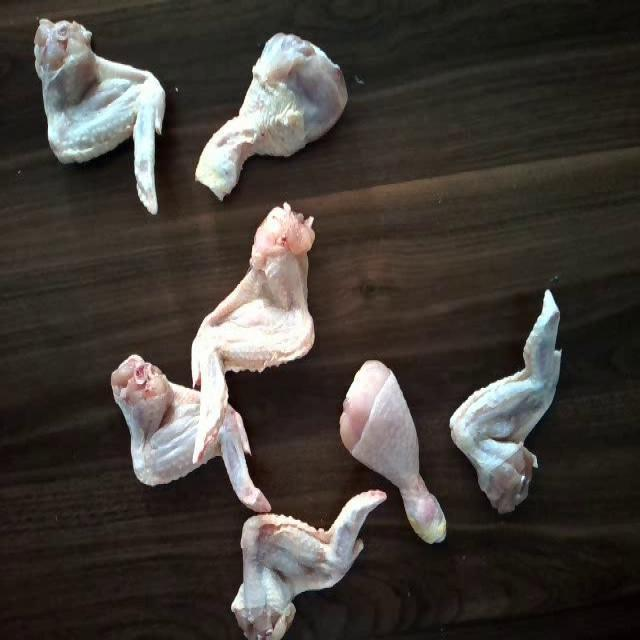leg: (196, 27, 344, 209), (337, 354, 451, 548)
wing: (20, 15, 170, 214), (452, 283, 571, 522), (97, 354, 275, 510), (203, 210, 321, 435), (226, 480, 390, 640)
